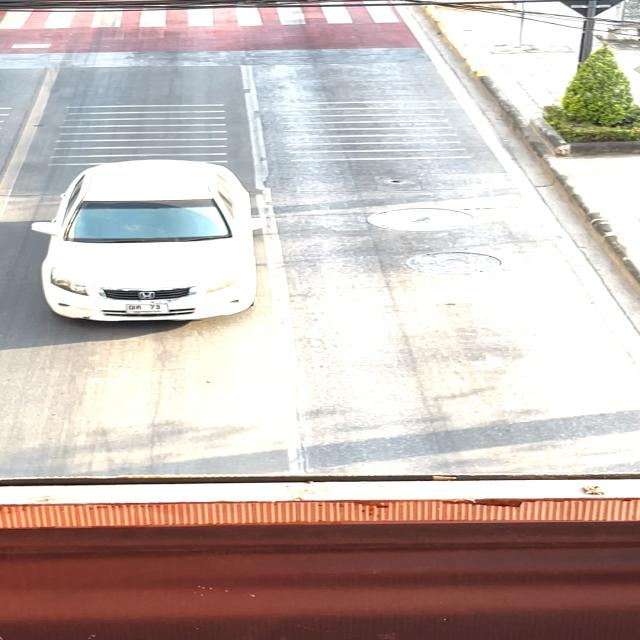car: (21, 156, 270, 340)
